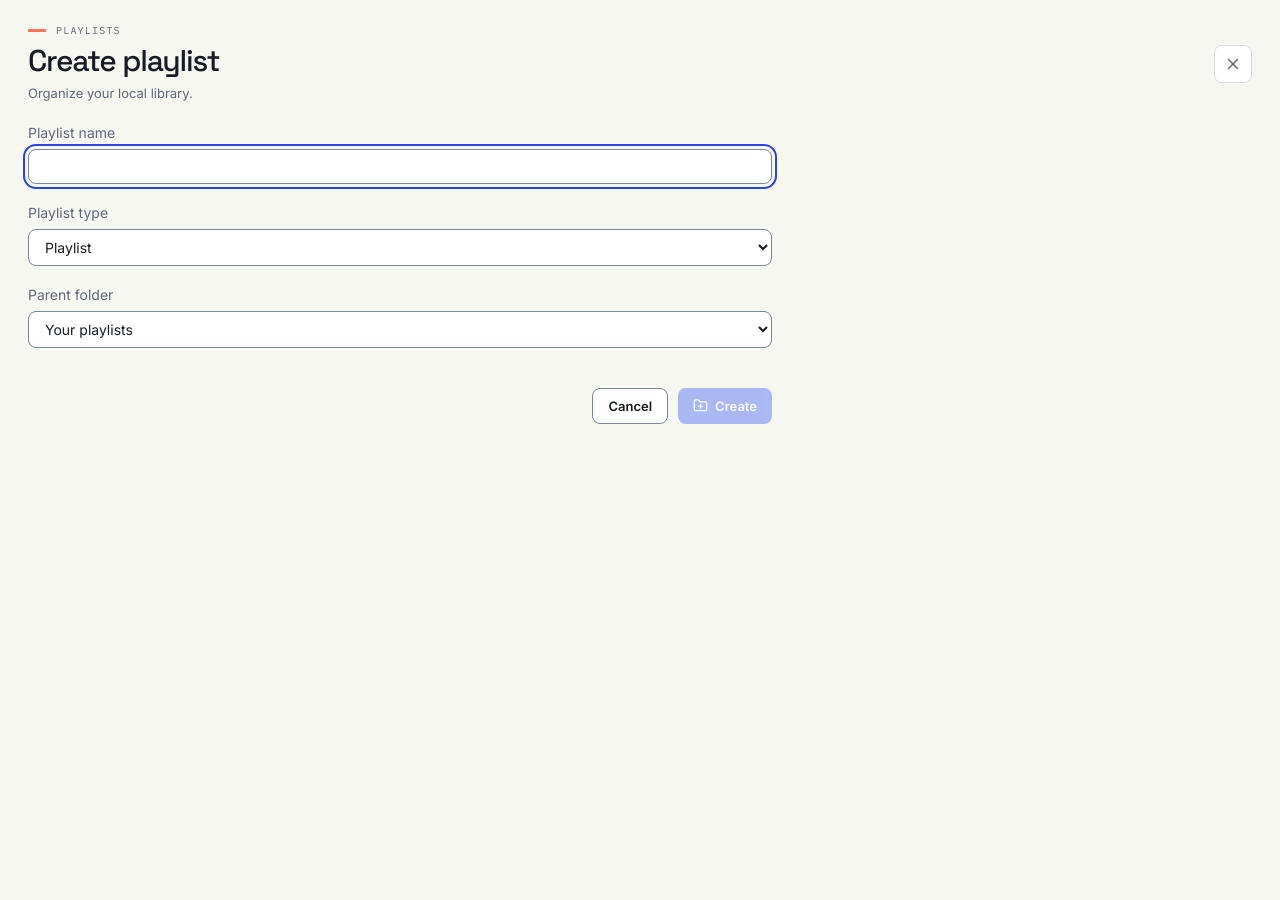
Test: smart playlist editor › blocks a rejected Start date for condition 1 until a valid replacement resolves
Select "Smart playlist" in the dropdown labelled "Playlist type" at (400, 247), box left=28, top=228, right=772, bottom=266
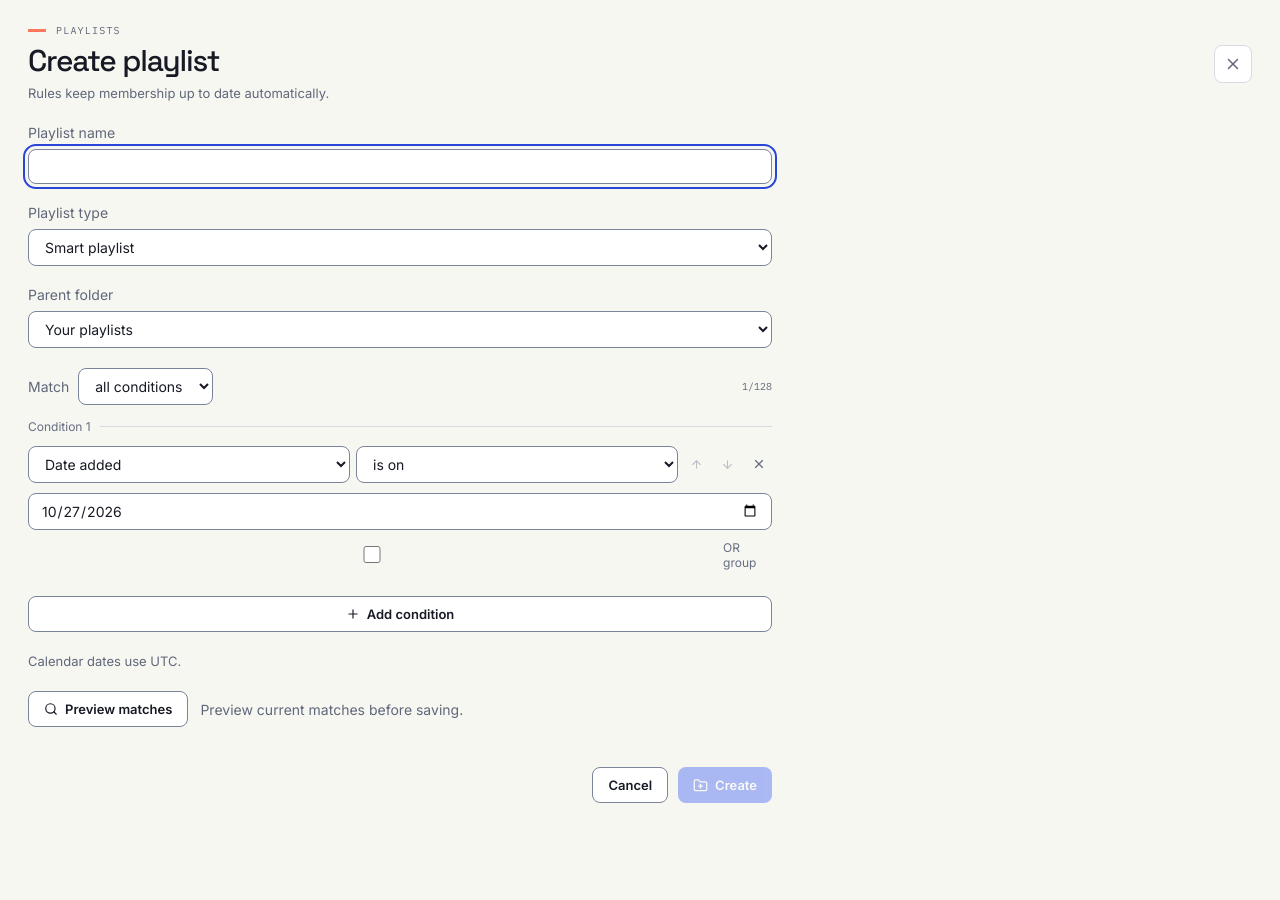
Expected: the date field named "Date for condition 1" is shown, left=28, top=492, right=772, bottom=530
Select "is between dates" in the dropdown named "Operator for condition 1" at (517, 464), box left=356, top=446, right=678, bottom=482
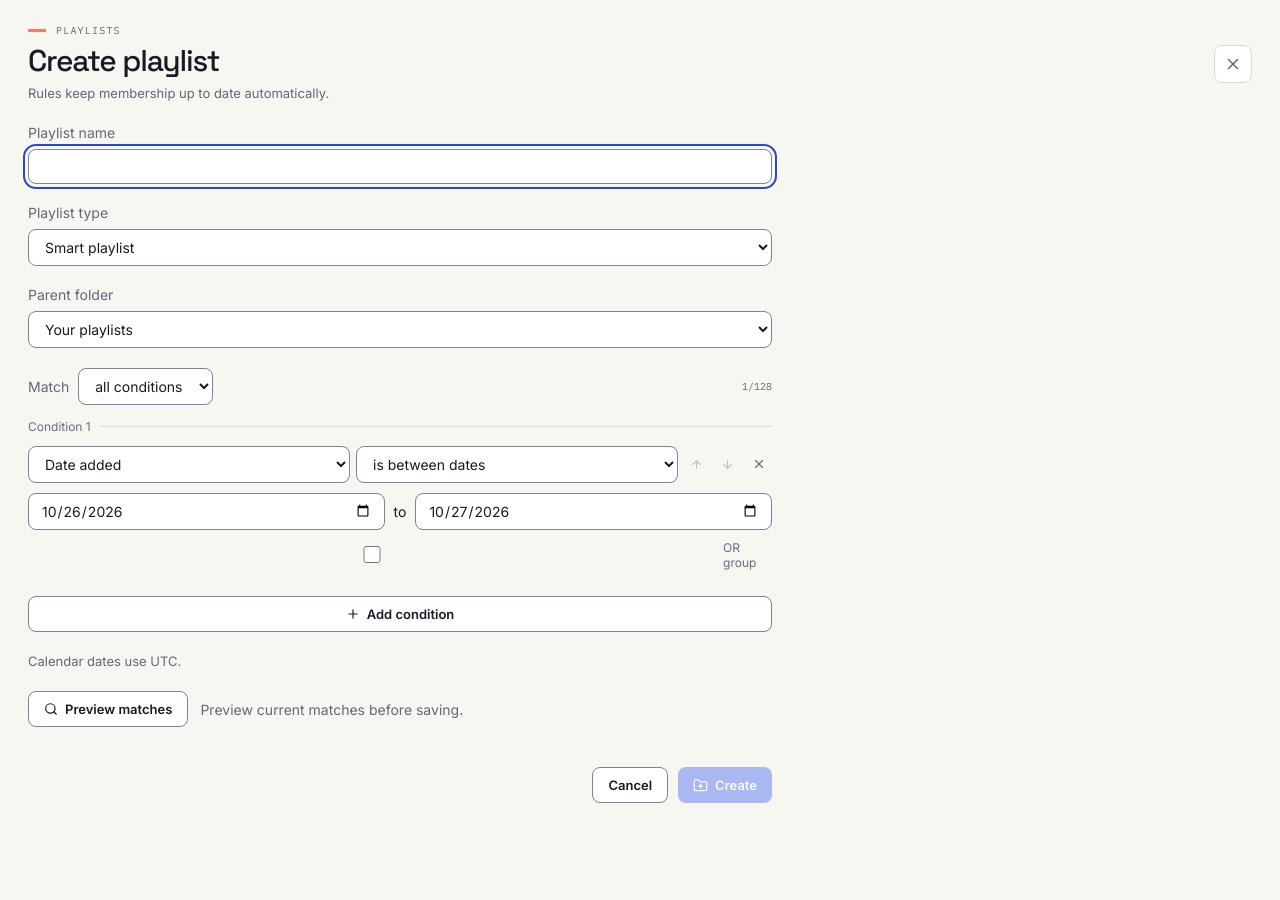
Type "Date list" into the field labelled "Playlist name".
click(400, 166); type("Date list")  # box left=28, top=148, right=772, bottom=184
Click the button "Preview matches".
click(108, 709)  # box left=28, top=691, right=188, bottom=727
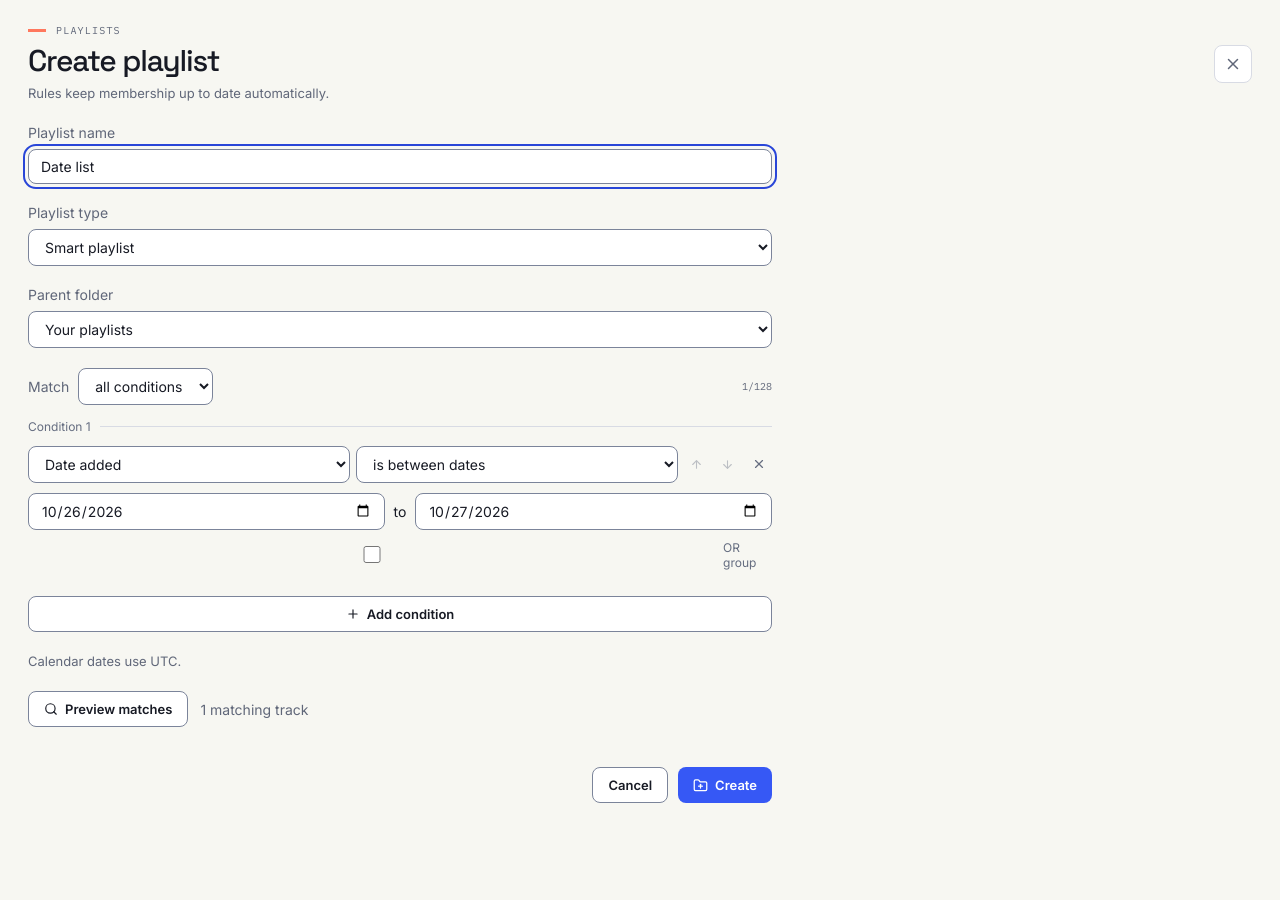
Expected: the text "1 matching track" is shown, left=200, top=700, right=308, bottom=718
Type "2026-10-16" into the date field named "Start date for condition 1".
click(206, 511); type("2026-10-16")  # box left=28, top=492, right=385, bottom=530
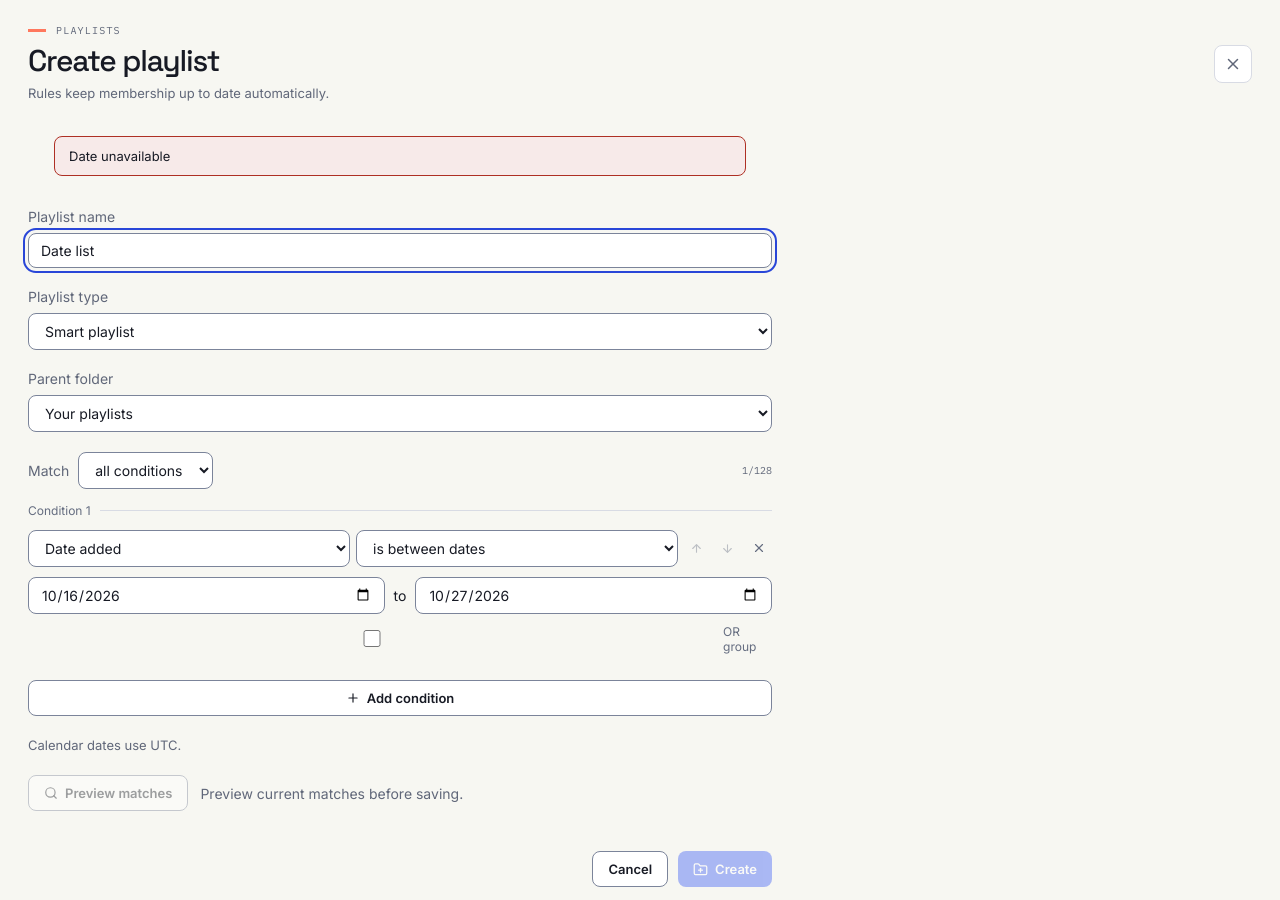
Expected: the text "Date unavailable" is shown, left=54, top=136, right=746, bottom=176
Expected: the button "Preview matches" is disabled, left=28, top=775, right=188, bottom=811
Expected: the button "Create" is disabled, left=678, top=851, right=772, bottom=887
Type "2026-10-17" into the date field named "Start date for condition 1".
click(206, 595); type("2026-10-17")  # box left=28, top=576, right=385, bottom=614
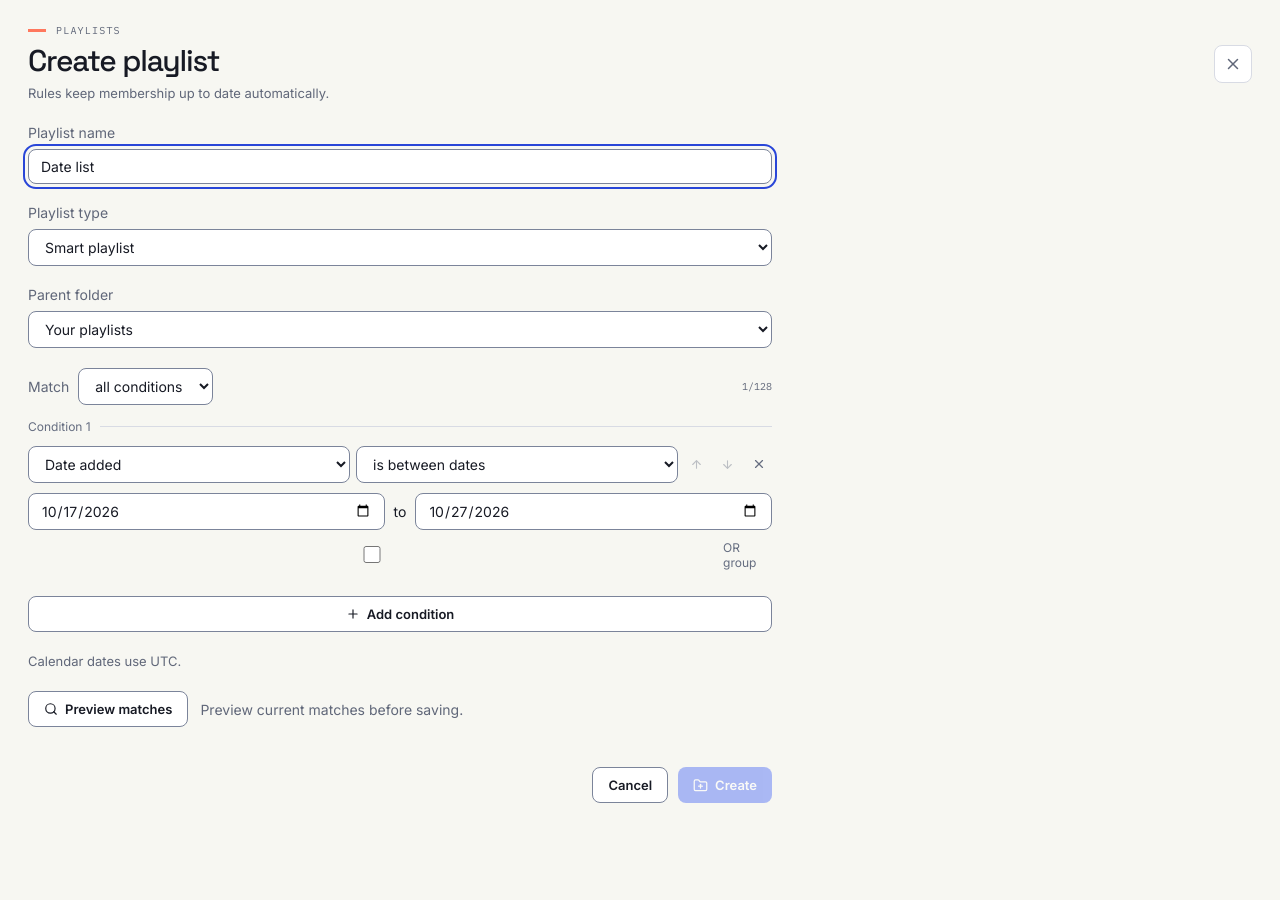
Expected: the button "Create" is disabled, left=678, top=767, right=772, bottom=803
Expected: the button "Preview matches" is enabled
Click the button "Preview matches".
click(108, 709)  # box left=28, top=691, right=188, bottom=727
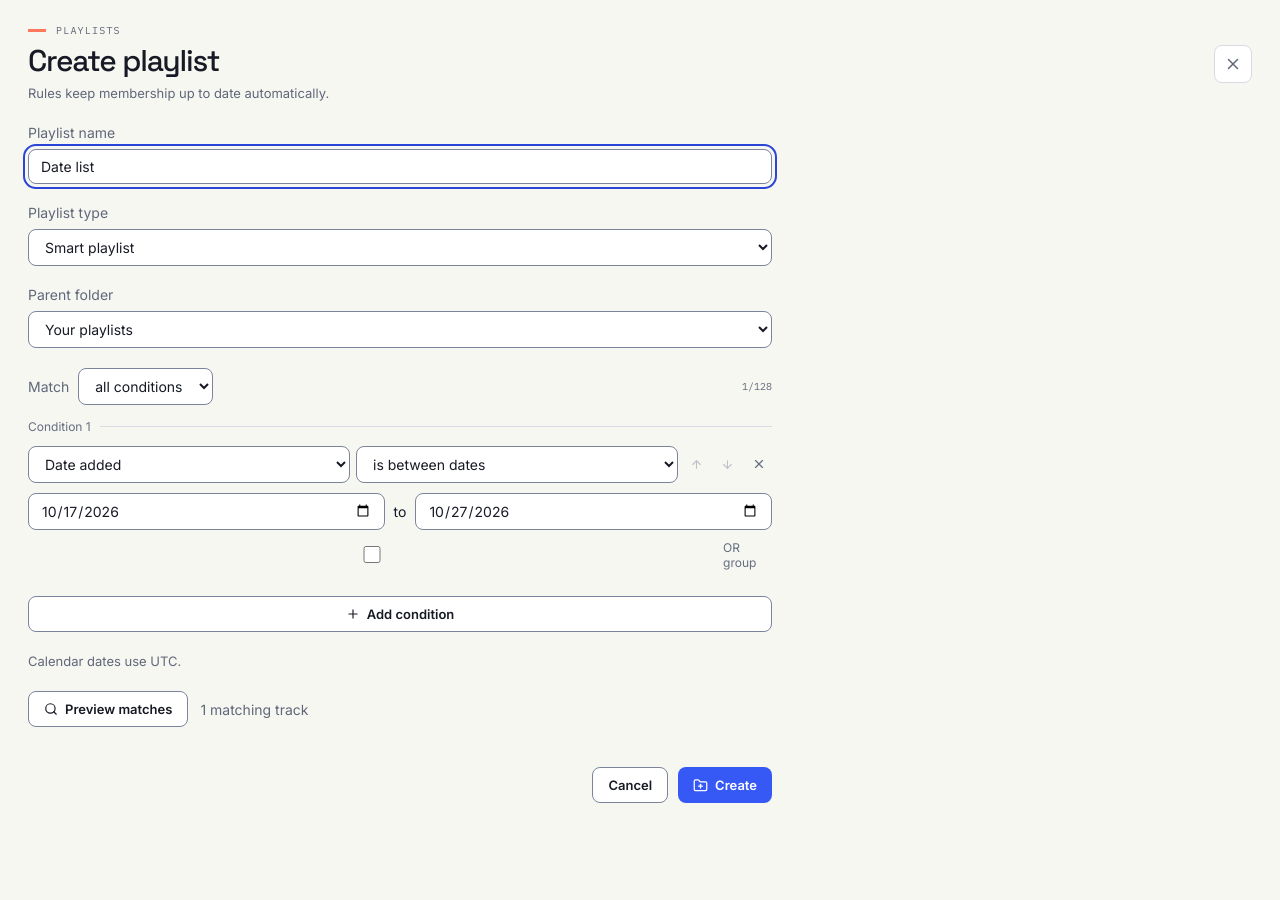
Expected: the text "1 matching track" is shown, left=200, top=700, right=308, bottom=718
